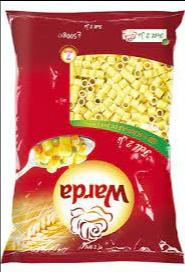Fell: (0, 10, 184, 262)
